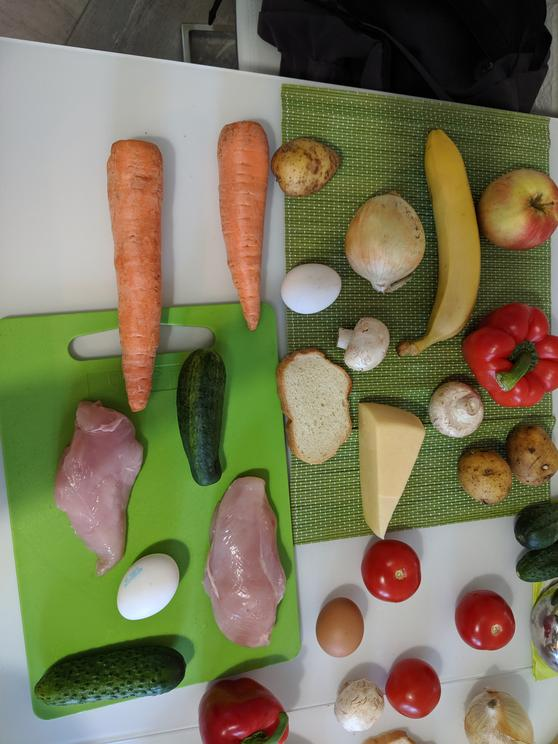apple: (477, 165, 557, 252)
banana: (397, 120, 482, 358)
carrot: (106, 139, 164, 412), (214, 122, 269, 331)
champignon: (333, 312, 392, 371), (427, 381, 482, 438), (333, 678, 384, 731)
cheese: (354, 400, 424, 542)
chicken_fillet: (55, 397, 146, 578), (204, 475, 287, 647)
cucumber: (33, 644, 186, 707), (176, 346, 228, 485)
egg: (114, 549, 180, 621), (281, 261, 342, 312), (315, 597, 365, 656)
onion: (343, 193, 425, 292), (464, 689, 533, 744)
pepper: (463, 300, 558, 409), (200, 679, 289, 743)
potato: (270, 135, 343, 199), (506, 422, 558, 485), (456, 446, 511, 503)
tomato: (454, 589, 515, 652), (360, 540, 421, 602), (385, 659, 443, 718)
white_bread: (276, 346, 351, 466)
